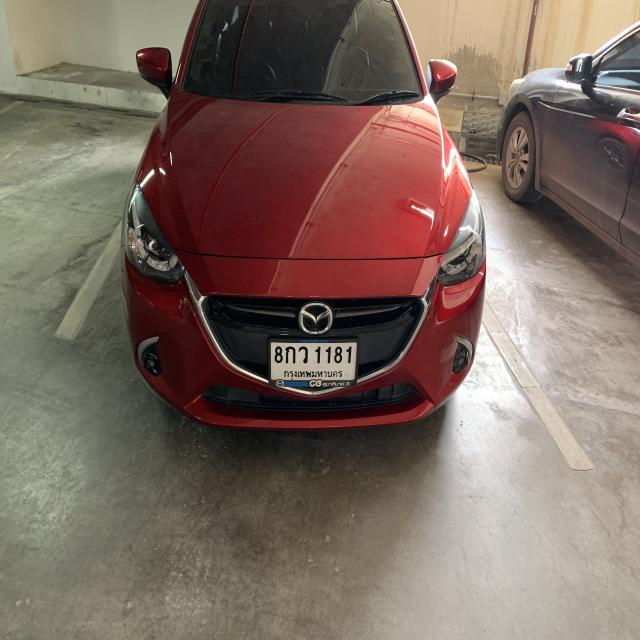license_plate: (269, 339, 360, 391)
